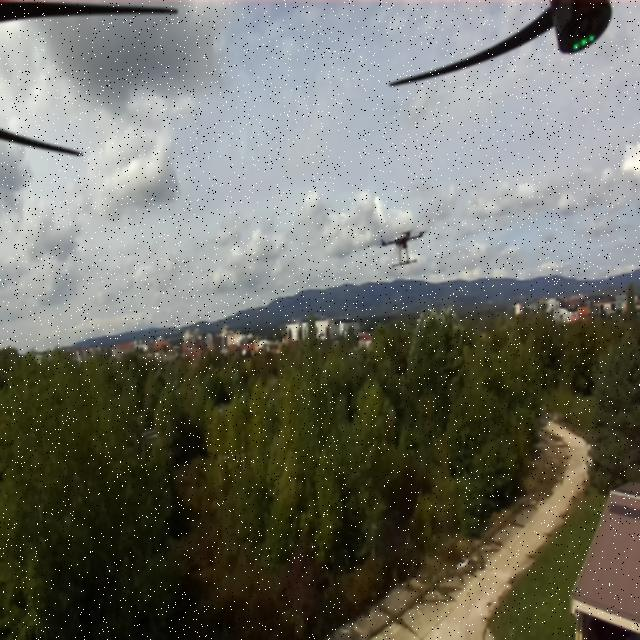UAV: (374, 218, 428, 274)
